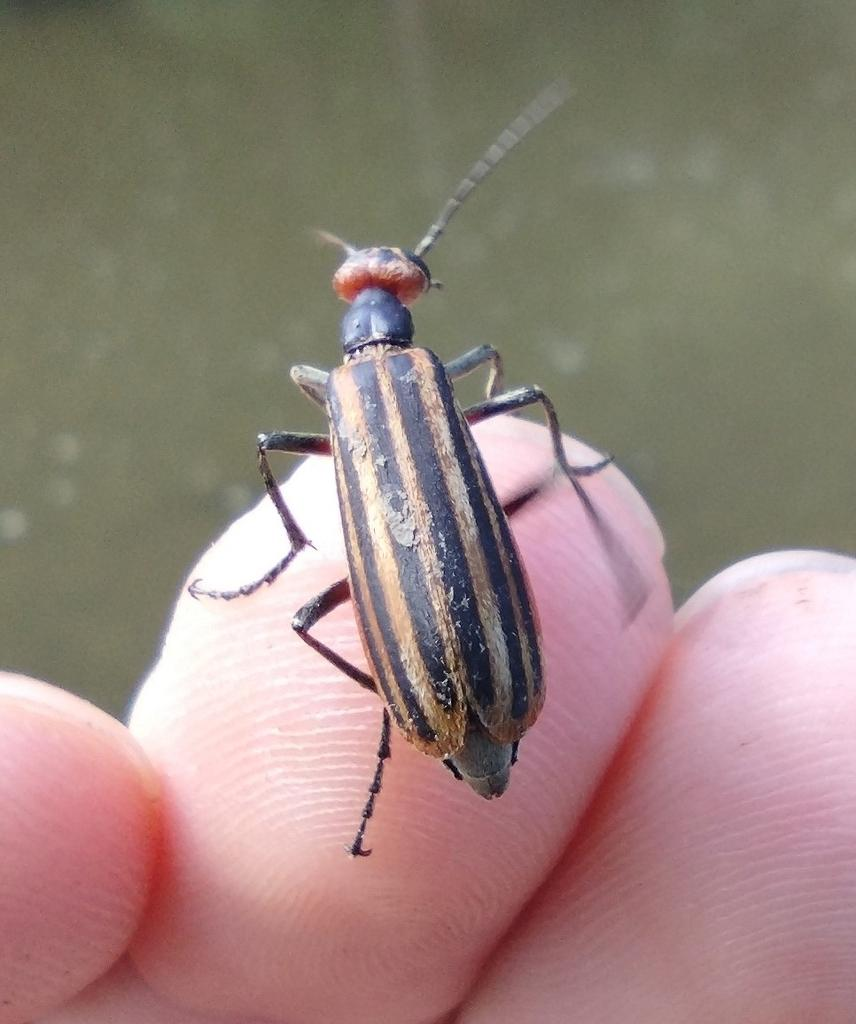blister_beetle: (106, 36, 790, 937)
